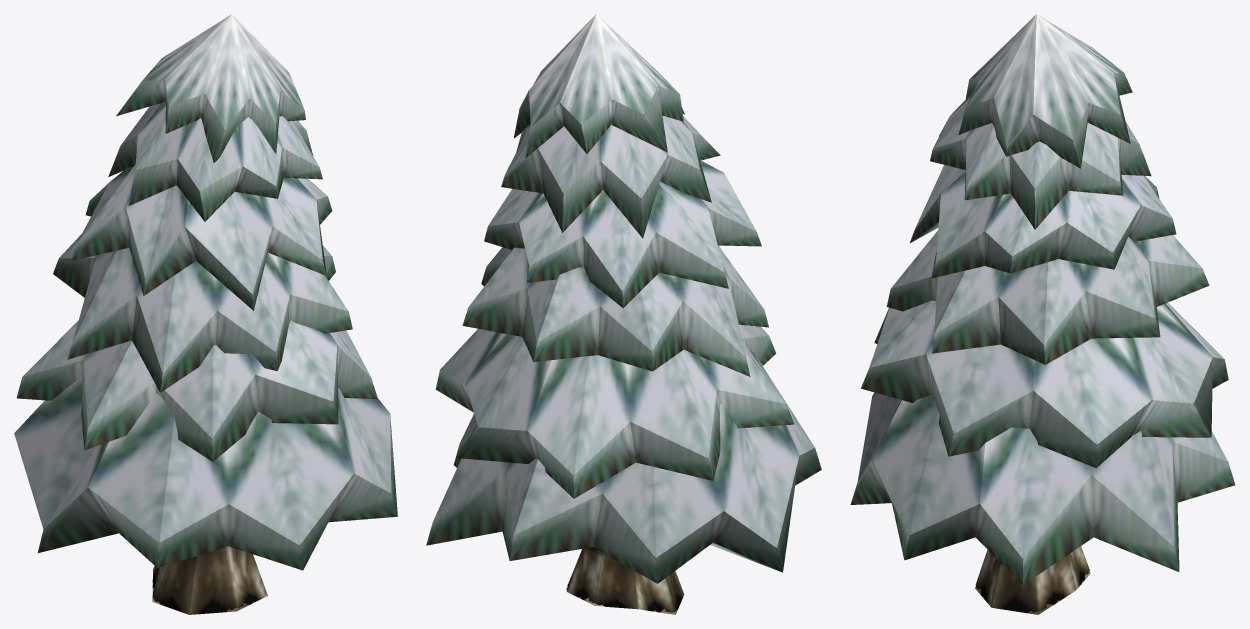
Rendered from Poly_Pine_Tree_01_Snow.obj.
3 renders of one model, left to right at view 1: azimuth 30°, elevation 25°; view 2: azimuth 150°, elevation 25°; view 3: azimuth 270°, elevation 25°, orthographic. The views are drawn at different scales.
Visible parts, largest first — view 1: Cube.001, Cube.001_Cube.010, Cube.002_Cube.011, Cube.003_Cube.012, Cube.005_Cube.014, Cube.004_Cube.013, Cube.006_Cube.001; view 2: Cube.001_Cube.010, Cube.001, Cube.002_Cube.011, Cube.003_Cube.012, Cube.004_Cube.013, Cube.005_Cube.014, Cube.006_Cube.001; view 3: Cube.001, Cube.001_Cube.010, Cube.002_Cube.011, Cube.003_Cube.012, Cube.005_Cube.014, Cube.004_Cube.013, Cube.006_Cube.001.
Boxes of the visible parts, box(x1,y1,x2,y2) form: Cube.001: box(14, 376, 397, 570); Cube.001_Cube.010: box(16, 320, 377, 461); Cube.002_Cube.011: box(53, 234, 352, 392); Cube.003_Cube.012: box(71, 164, 332, 310); Cube.005_Cube.014: box(116, 14, 305, 162); Cube.004_Cube.013: box(108, 102, 322, 221); Cube.006_Cube.001: box(152, 546, 267, 614); Cube.001_Cube.010: box(435, 324, 794, 498); Cube.001: box(426, 348, 821, 583); Cube.002_Cube.011: box(462, 245, 768, 376); Cube.003_Cube.012: box(484, 160, 761, 308); Cube.004_Cube.013: box(501, 115, 720, 238); Cube.005_Cube.014: box(513, 14, 684, 158); Cube.006_Cube.001: box(566, 547, 684, 614); Cube.001: box(850, 392, 1235, 584); Cube.001_Cube.010: box(861, 300, 1228, 468); Cube.002_Cube.011: box(886, 230, 1209, 364); Cube.003_Cube.012: box(910, 165, 1176, 278); Cube.005_Cube.014: box(958, 14, 1132, 168); Cube.004_Cube.013: box(930, 93, 1151, 229); Cube.006_Cube.001: box(975, 546, 1090, 614).
Size of the model in its own units: 2.23 by 3.62 by 2.15.
Materials: 1 (1 with a texture image).
